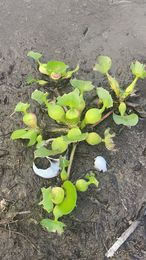water_hyacinth: (13, 49, 143, 235)
